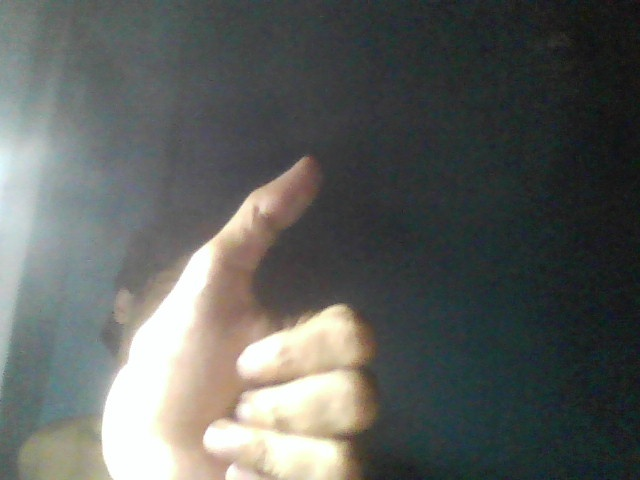ThumbsUp: (102, 153, 380, 480)
